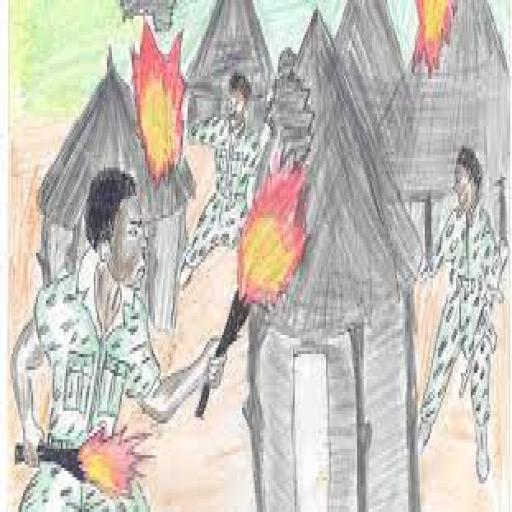person: (8, 163, 232, 509), (406, 140, 510, 490), (173, 57, 279, 288)
